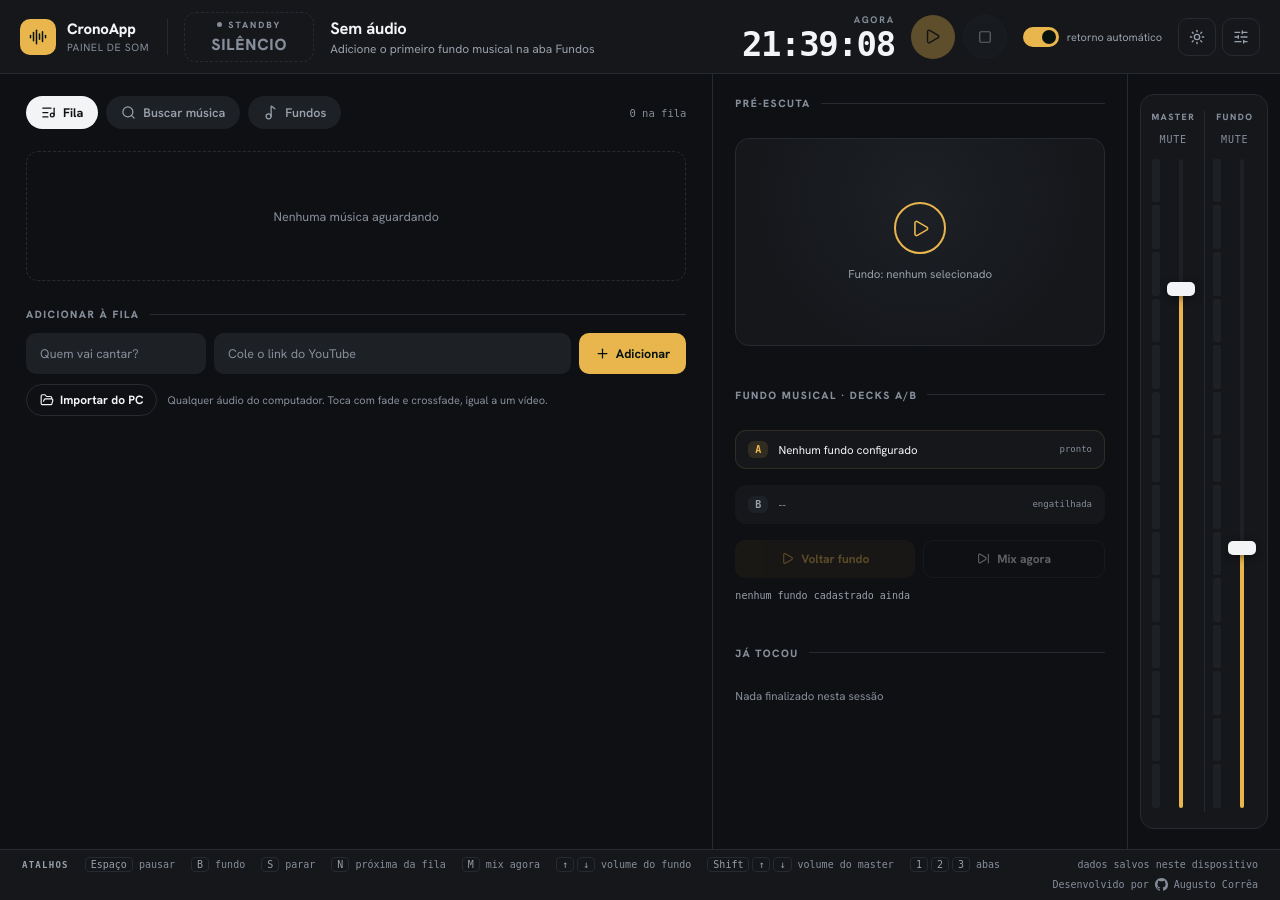
Test: tocar (RF-01.7) › o card do que está no ar ganha a tarja NO AR
This screenshot has width=1280, height=900.
Type "Ana" into the field named "Nome da pessoa" at (116, 354), box [26,333,206,374]
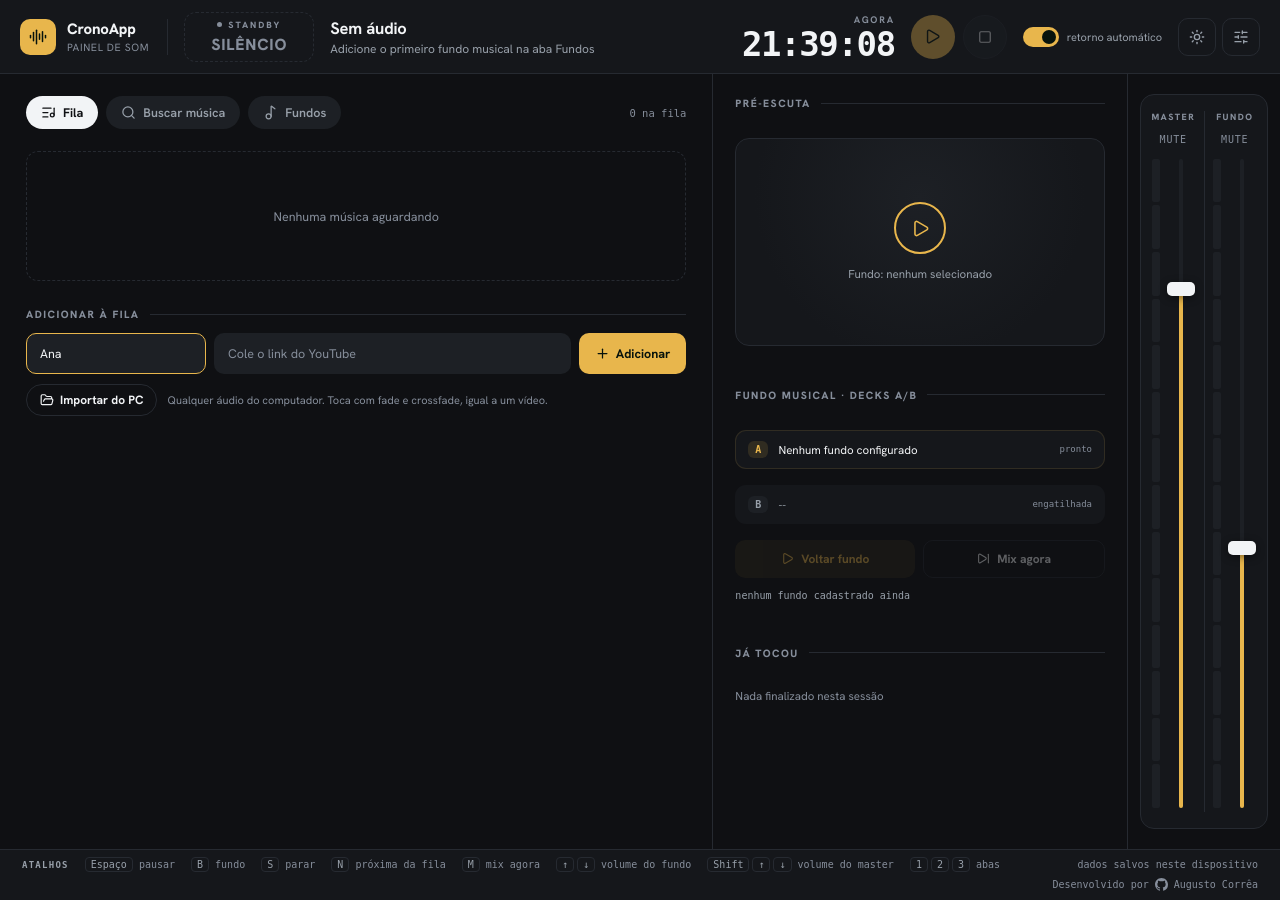
Type "https://youtu.be/dQw4w9WgXcQ" into the field labelled "link do YouTube" at (392, 354), box [214,333,571,374]
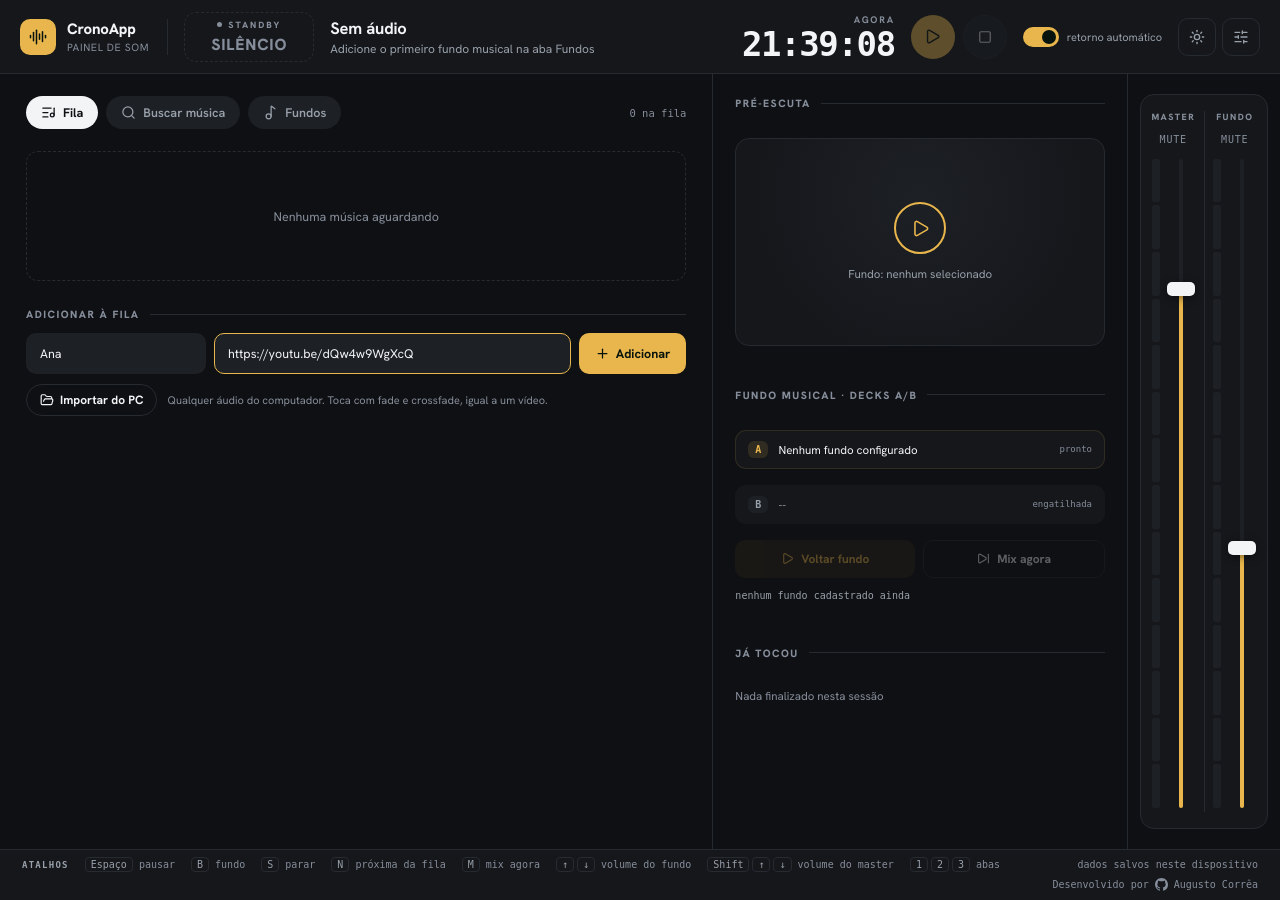
Click the button "Adicionar" at (633, 354), box [579,333,686,374]
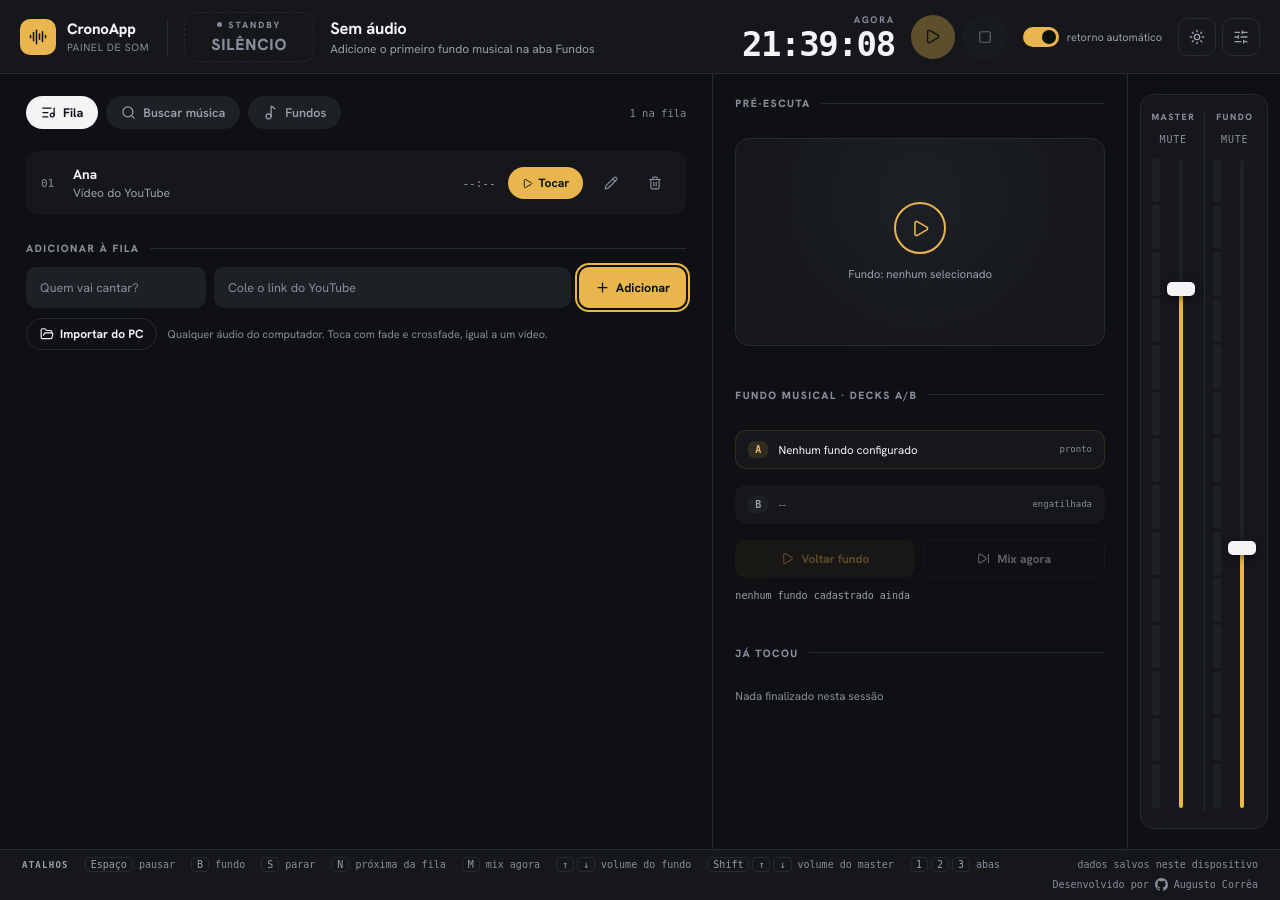
Click the button with aria-label "Tocar Ana" at (546, 183), box [508,167,583,199]
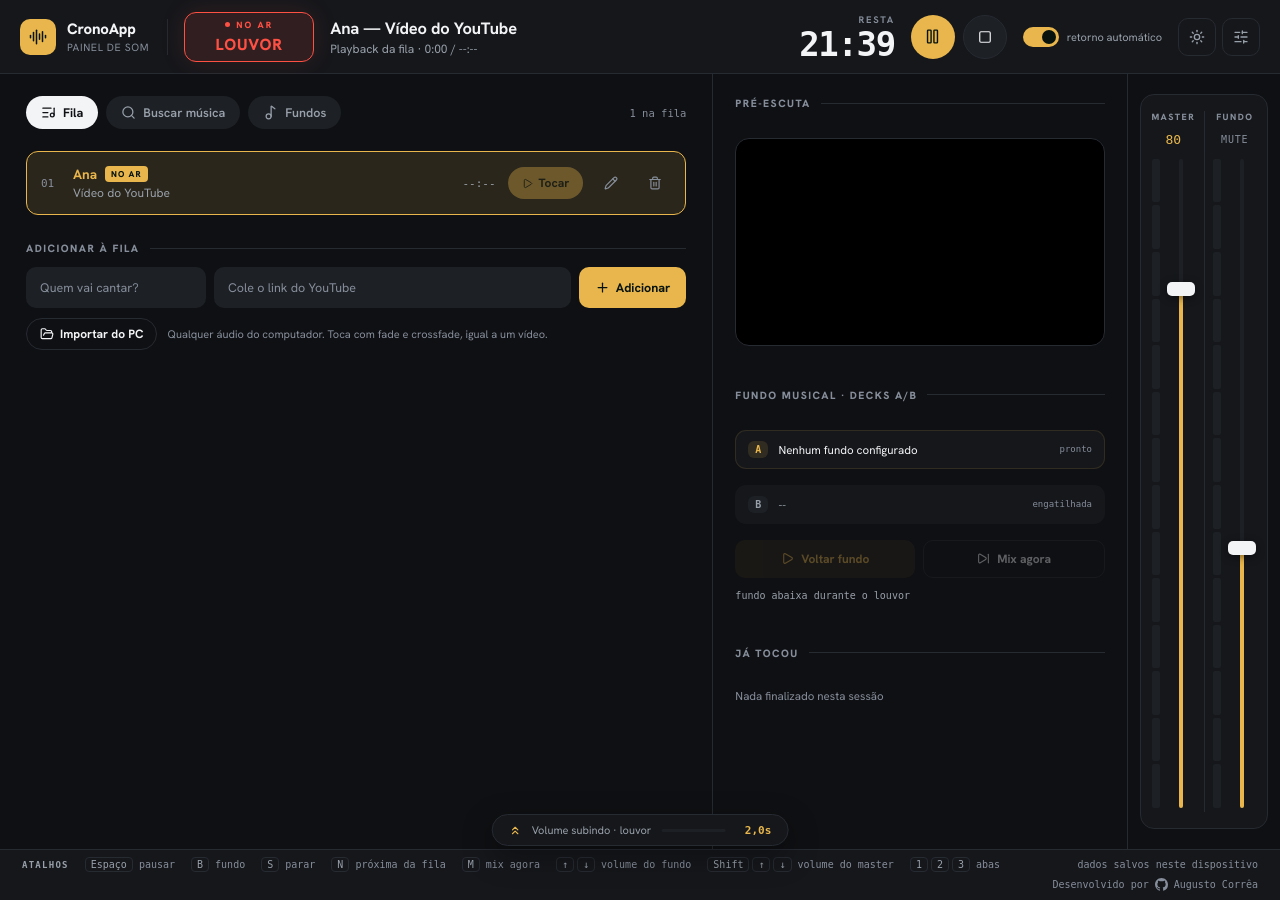
Result: the text "Ana" is shown at [73,165,97,183]
Result: the text "NO AR" is shown at [105,166,148,182]
